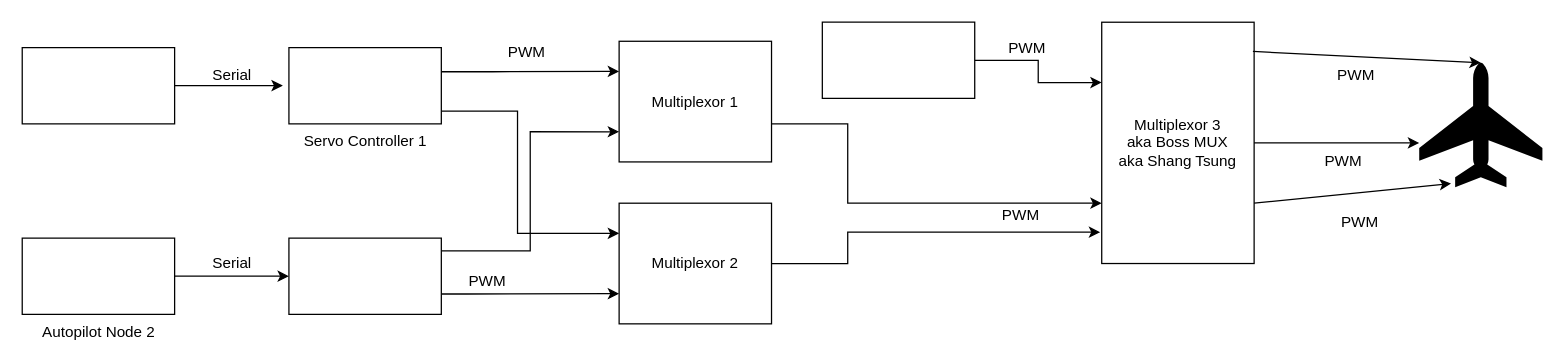
Some shapes in this 1565 by 363 pixel diagram are drawn without their labels. Each missing label, with the centre of its shape:
Autopilot Node 1: point (98, 85)
RC Receiver: point (898, 59)
Servo Controller 2: point (364, 275)
